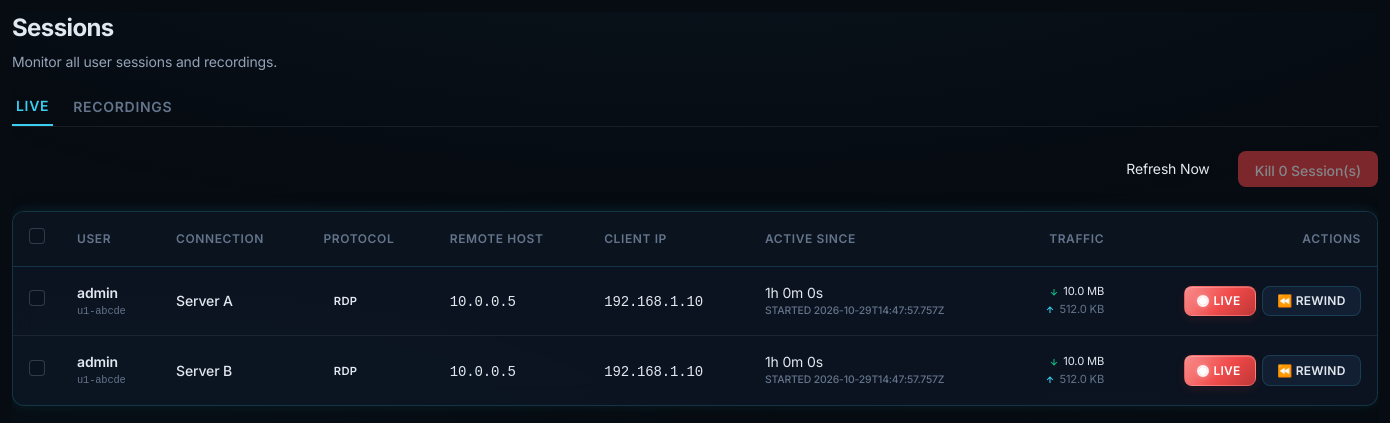
it: Sessions › select-all toggles all sessions
The width and height of the screenshot is (1390, 423).
Expected: the text "Server A" is shown, x1=176 y1=292 x2=233 y2=309
Click the checkbox in the row of "Connection": (37,236) x1=29 y1=228 x2=45 y2=244
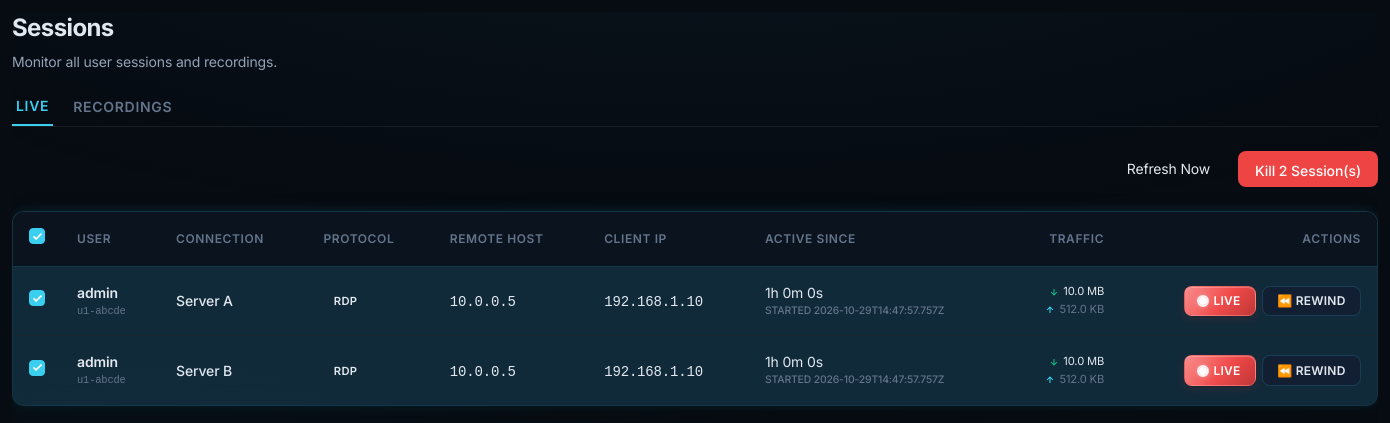
Now the button "Kill 2 Session(s)" is shown, box x1=1238 y1=151 x2=1378 y2=187
